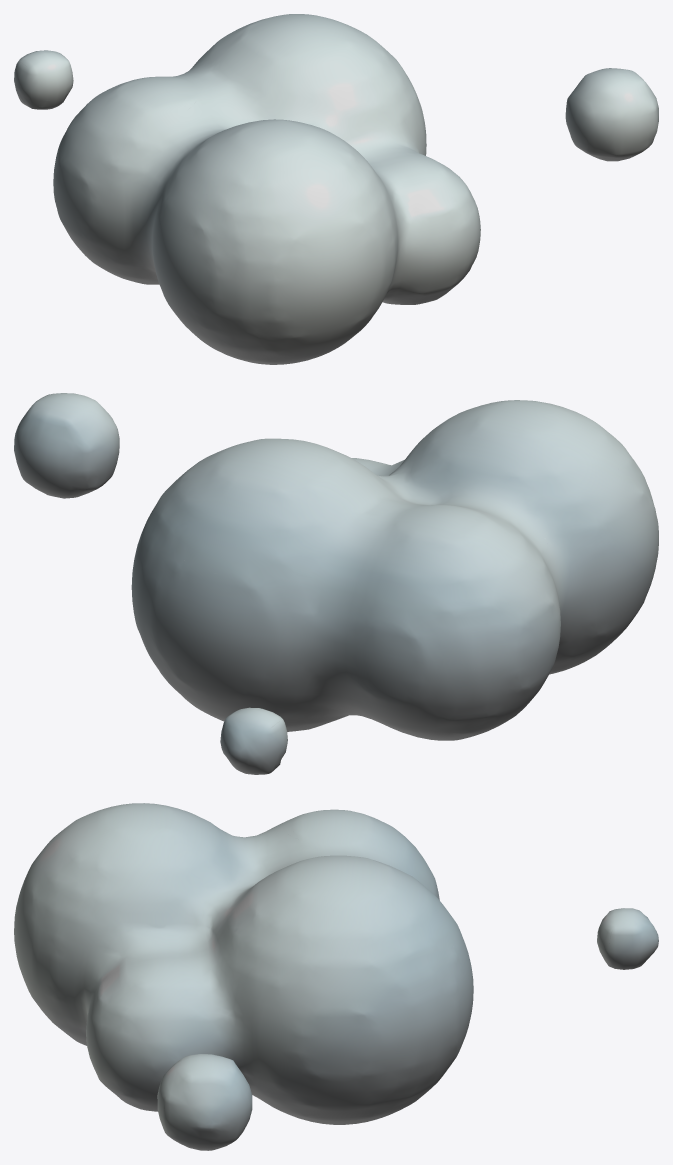
File: SM_Env_Cloud3.fbx
The picture shows the model from 3 angles, top to bottom: view 1: azimuth 30°, elevation 25°; view 2: azimuth 150°, elevation 25°; view 3: azimuth 270°, elevation 25°; orthographic projection. The views are drawn at different scales.
Parts seen in each view (by area): view 1: Cloud; view 2: Cloud; view 3: Cloud.
Part boxes in pixels (x1,y1,x2,y2): Cloud: (14,14,658,364); Cloud: (14,393,658,774); Cloud: (14,803,658,1150).
Bounding box in the file's own units: 3229 × 1372 × 3298.
1 material, 1 textured.
